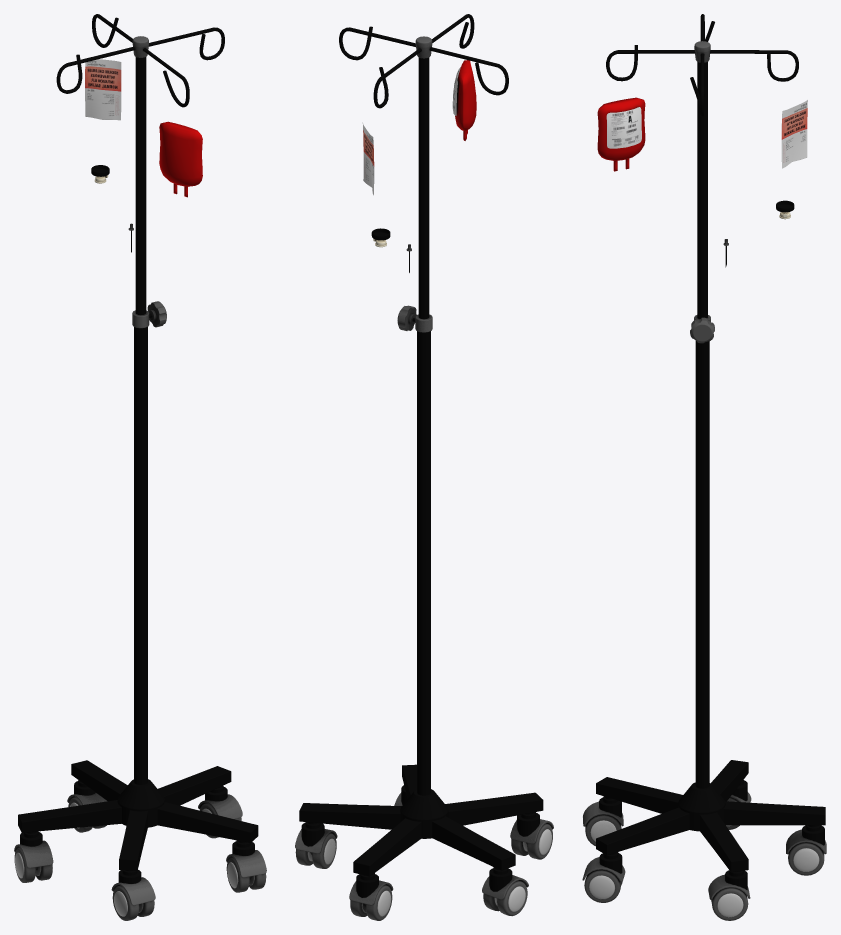
Rendered from Pied-Perf-et-Flex-Projet-Doceo-Avec-Baking.fbx.
3 renders of one model, left to right at view 1: azimuth 30°, elevation 25°; view 2: azimuth 150°, elevation 25°; view 3: azimuth 270°, elevation 25°, orthographic.
Visible parts, largest first — view 1: Pied-A-Perf; view 2: Pied-A-Perf; view 3: Pied-A-Perf.
Part boxes in pixels (<box>): Pied-A-Perf: <box>14,14,266,920</box>; Pied-A-Perf: <box>295,14,553,920</box>; Pied-A-Perf: <box>582,14,826,920</box>.
Bounding box in the file's own units: 54.27 × 198 × 53.13.
Materials: 1 (1 with a texture image).
